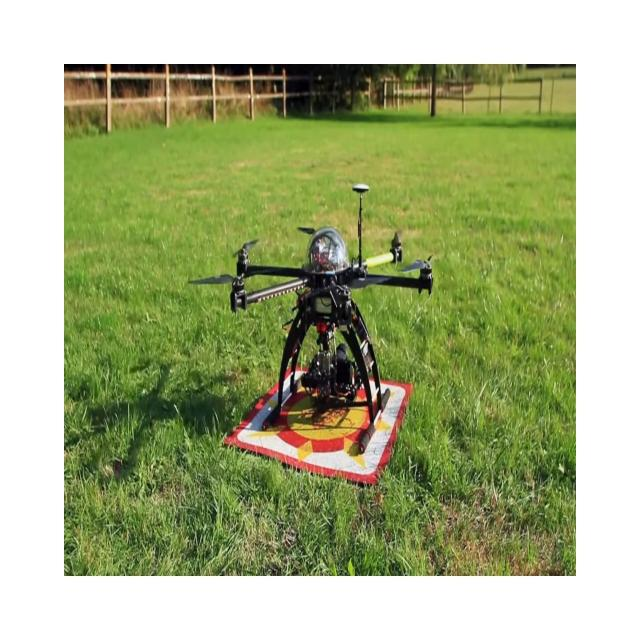drone: (188, 182, 434, 457)
